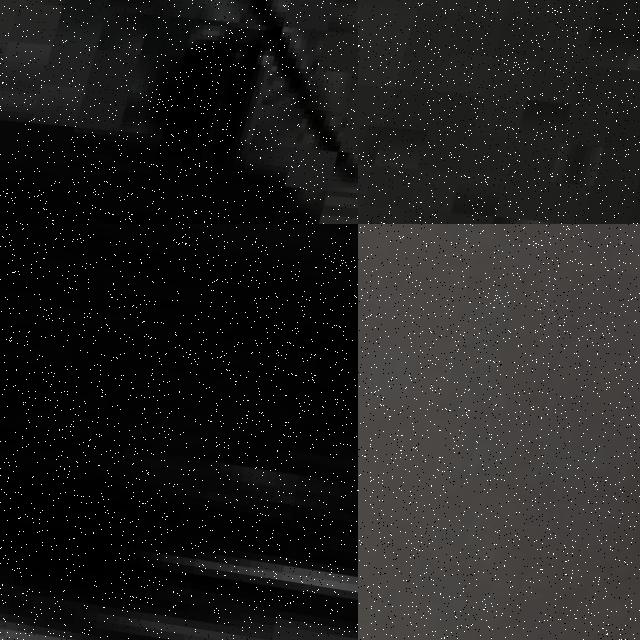0: (0, 0, 358, 224), (358, 0, 640, 224)
drone: (358, 224, 640, 640)
